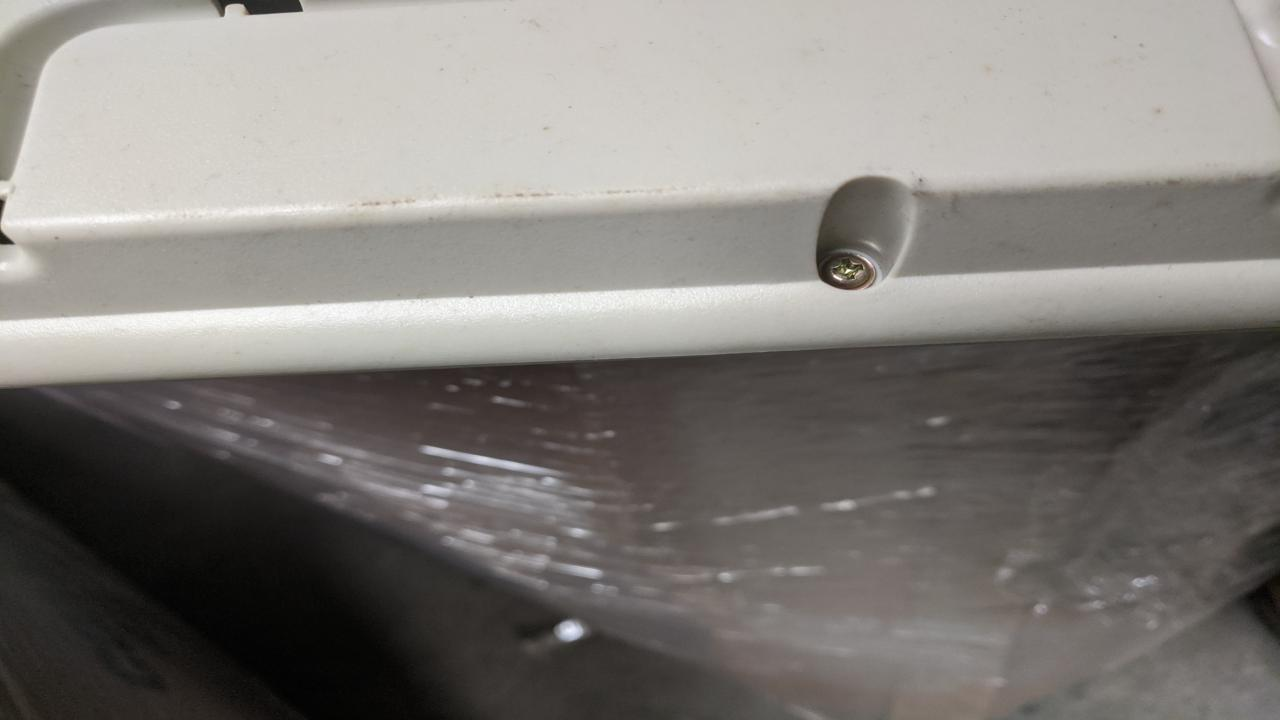CRS: (814, 249, 882, 293)
